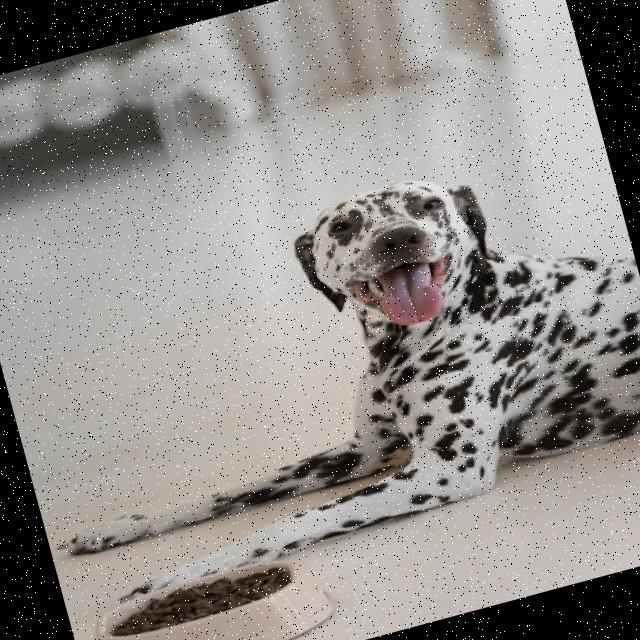Dog: (0, 125, 640, 612)
